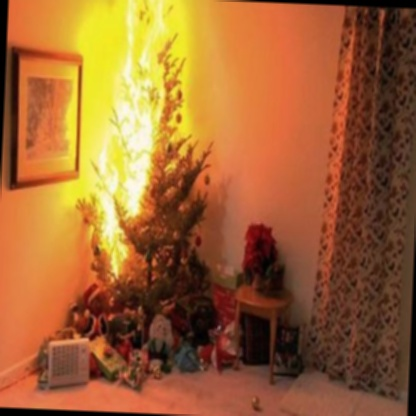fire: (67, 0, 219, 288)
